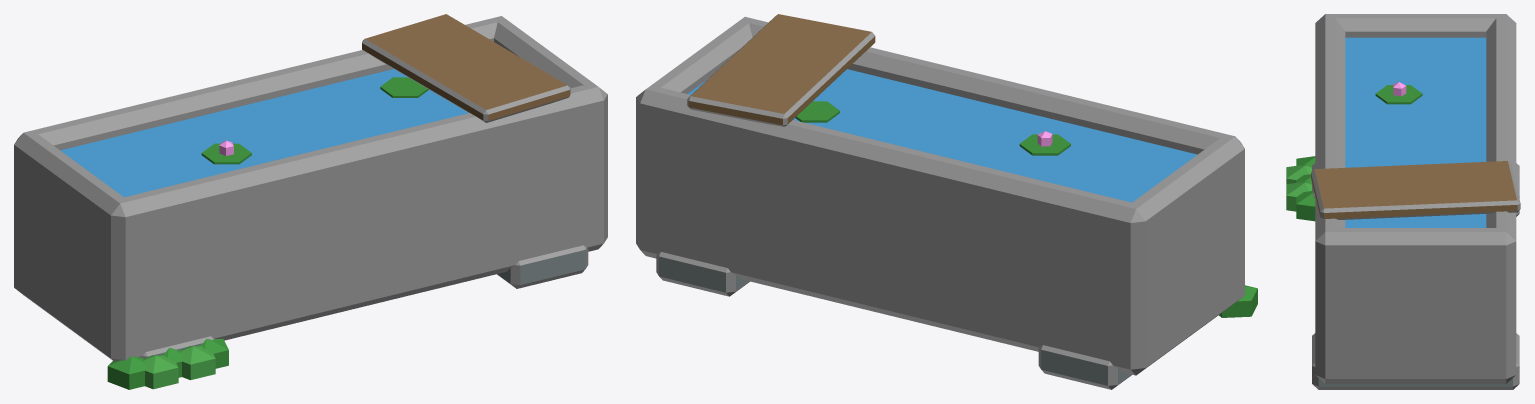
File: wassertrog.glb
3 views of the same model, side by side, from view 1: azimuth 30°, elevation 25°; view 2: azimuth 150°, elevation 25°; view 3: azimuth 270°, elevation 25° (orthographic). The views are drawn at different scales.
Visible parts, largest first — view 1: wassertrog-m; view 2: wassertrog-m; view 3: wassertrog-m.
Part boxes in pixels (x1=…): wassertrog-m: x1=14, y1=14, x2=607, y2=389; wassertrog-m: x1=636, y1=14, x2=1257, y2=389; wassertrog-m: x1=1286, y1=14, x2=1520, y2=389.
Size of the model in its own units: 1.62 by 0.588 by 0.6985.
